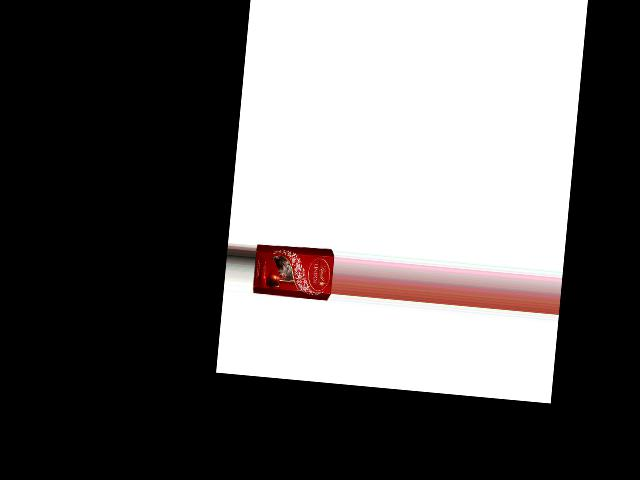chocolate: (251, 241, 334, 304)
